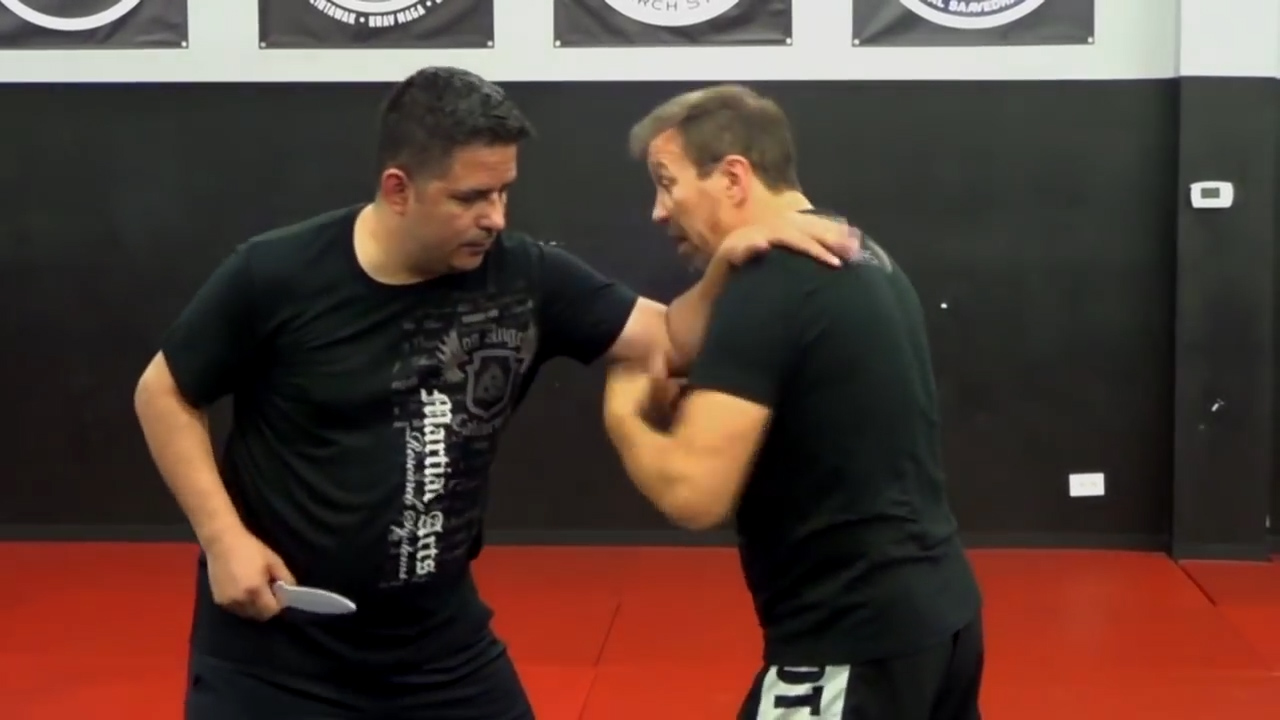knife: (198, 562, 367, 626)
